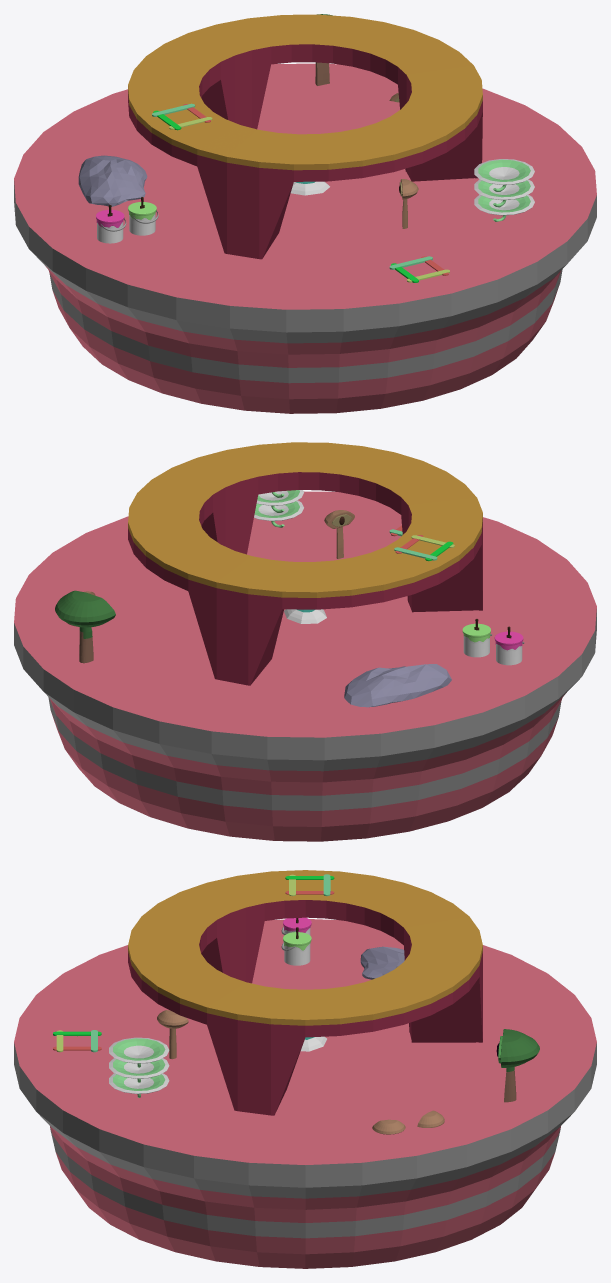
Rendered from stage_2_5.fbx.
3 renders of one model, top to bottom at view 1: azimuth 30°, elevation 25°; view 2: azimuth 150°, elevation 25°; view 3: azimuth 270°, elevation 25°, orthographic.
Parts seen in each view (by area): view 1: 円柱.038, 円柱.008, GD_mesh.002, ICO球.012, 円柱.039, 円柱.040, 円柱.013, 円柱.029; view 2: 円柱.038, 円柱.008, ICO球.012, 円柱.014, GD_mesh.002, 円柱.039, 円柱.040, 円柱.045, 円柱.029, GD_mesh.006; view 3: 円柱.038, 円柱.008, GD_mesh.002, 円柱.014, ICO球.012, 円柱.040, 円柱.045, 円柱.013, 円柱.029.
Boxes of the visible parts, bbox=[...] form: 円柱.038: bbox=[14, 63, 596, 413]; 円柱.008: bbox=[128, 14, 482, 259]; GD_mesh.002: bbox=[474, 159, 534, 221]; ICO球.012: bbox=[78, 155, 147, 206]; 円柱.039: bbox=[96, 205, 126, 243]; 円柱.040: bbox=[128, 197, 158, 235]; 円柱.013: bbox=[389, 256, 449, 282]; 円柱.029: bbox=[152, 103, 212, 130]; 円柱.038: bbox=[14, 491, 596, 841]; 円柱.008: bbox=[128, 442, 482, 685]; ICO球.012: bbox=[344, 664, 451, 707]; 円柱.014: bbox=[55, 590, 115, 663]; GD_mesh.002: bbox=[254, 490, 303, 527]; 円柱.039: bbox=[494, 626, 524, 665]; 円柱.040: bbox=[462, 619, 491, 657]; 円柱.045: bbox=[324, 510, 354, 558]; 円柱.029: bbox=[394, 535, 454, 561]; GD_mesh.006: bbox=[284, 609, 326, 623]; 円柱.038: bbox=[14, 919, 596, 1268]; 円柱.008: bbox=[128, 870, 482, 1115]; GD_mesh.002: bbox=[109, 1037, 169, 1097]; 円柱.014: bbox=[496, 1029, 539, 1102]; ICO球.012: bbox=[360, 946, 404, 979]; 円柱.040: bbox=[281, 927, 311, 965]; 円柱.045: bbox=[157, 1010, 188, 1059]; 円柱.013: bbox=[53, 1030, 101, 1052]; 円柱.029: bbox=[285, 874, 334, 896].
Size of the model in its own units: 1184 by 507 by 1184.
